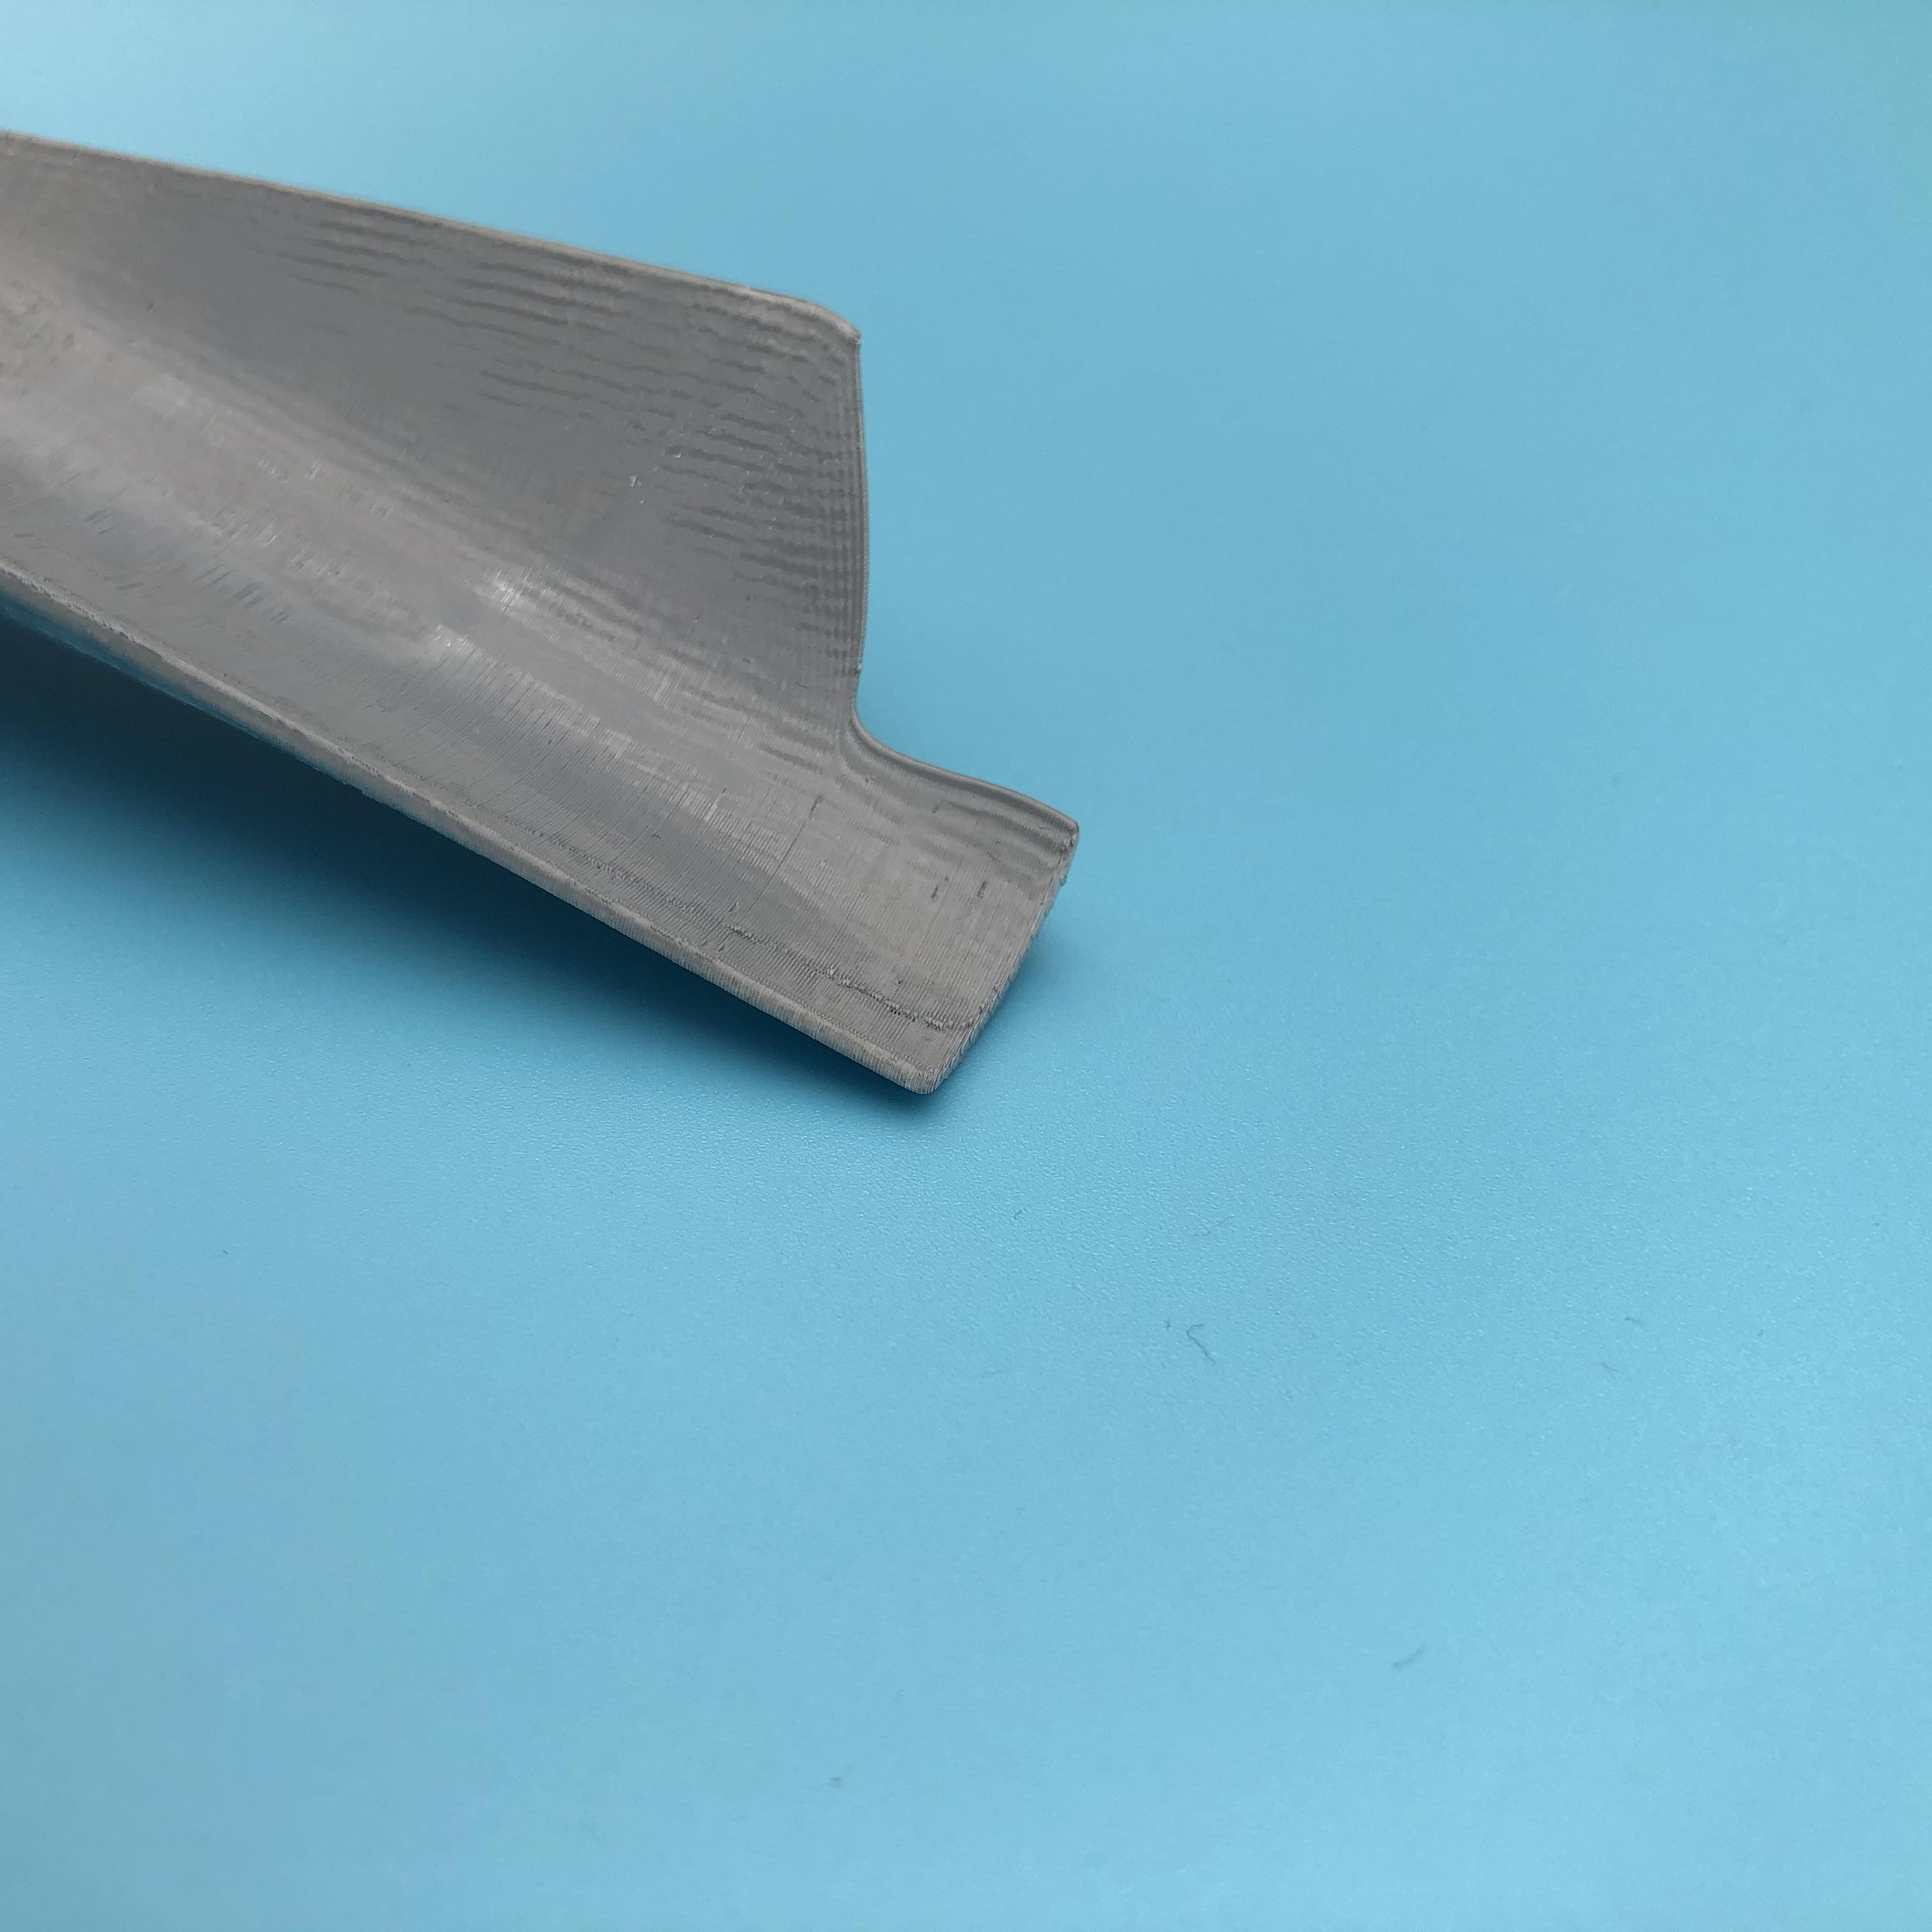fracture: (817, 451, 1086, 849)
